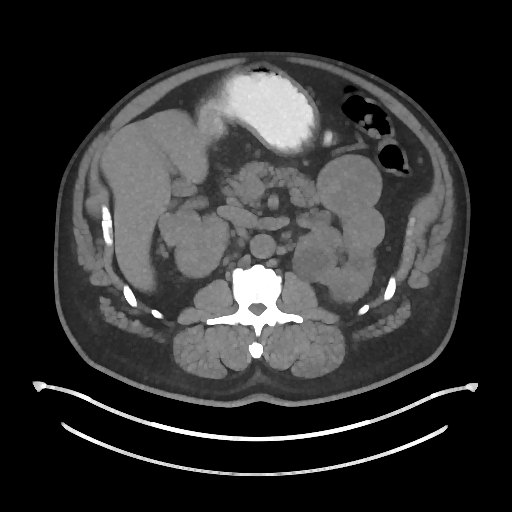Lesion: (315, 152, 382, 215)
